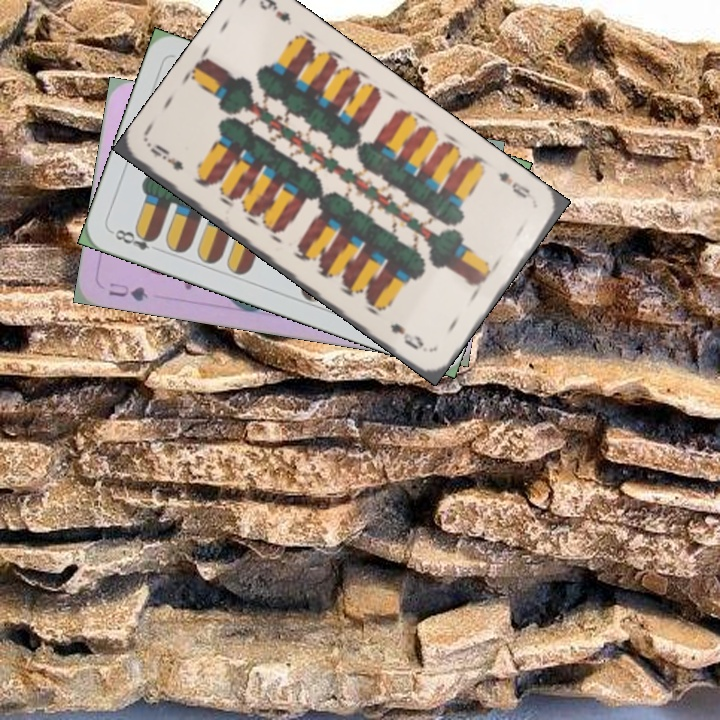E8: (108, 225, 160, 253)
E9: (146, 140, 186, 173), (494, 168, 533, 201)
GU: (104, 278, 151, 304)
